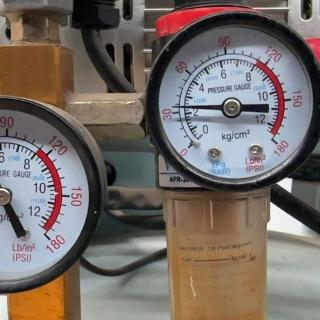gauge: (143, 3, 319, 193), (1, 92, 107, 301), (178, 134, 206, 159), (221, 96, 243, 118), (267, 131, 285, 153), (39, 228, 55, 248), (0, 186, 12, 206), (168, 102, 180, 110)
